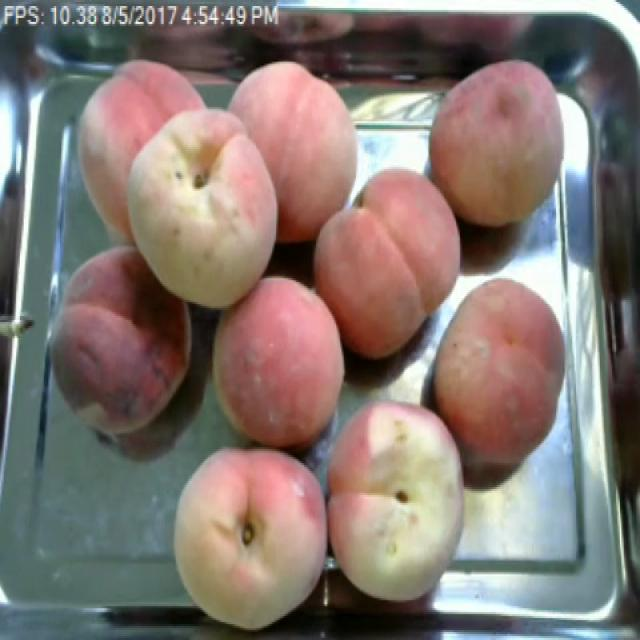Fruit: (117, 93, 291, 320), (36, 235, 207, 455), (300, 157, 475, 370), (162, 431, 330, 638), (325, 386, 479, 610), (420, 268, 580, 481), (216, 50, 376, 252), (199, 266, 360, 463), (418, 45, 578, 236)
